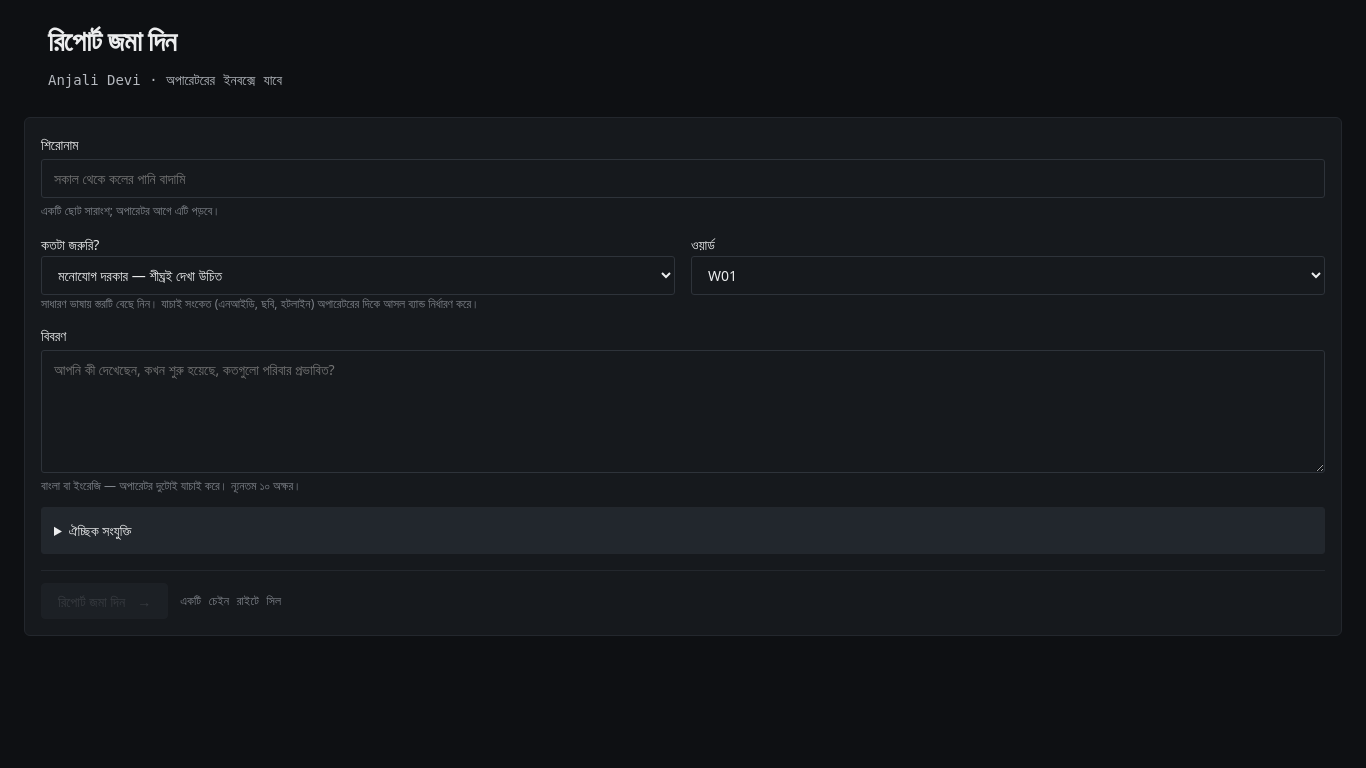
Test: WO-011 Submit Report Page reconciliation › Bangla-first: bn locale renders Bangla copy on the receipt
Type "Brown water in ward 4" into the field with test id "submit-title".
click(683, 179); type("Brown water in ward 4")  # box [41,159,1325,198]
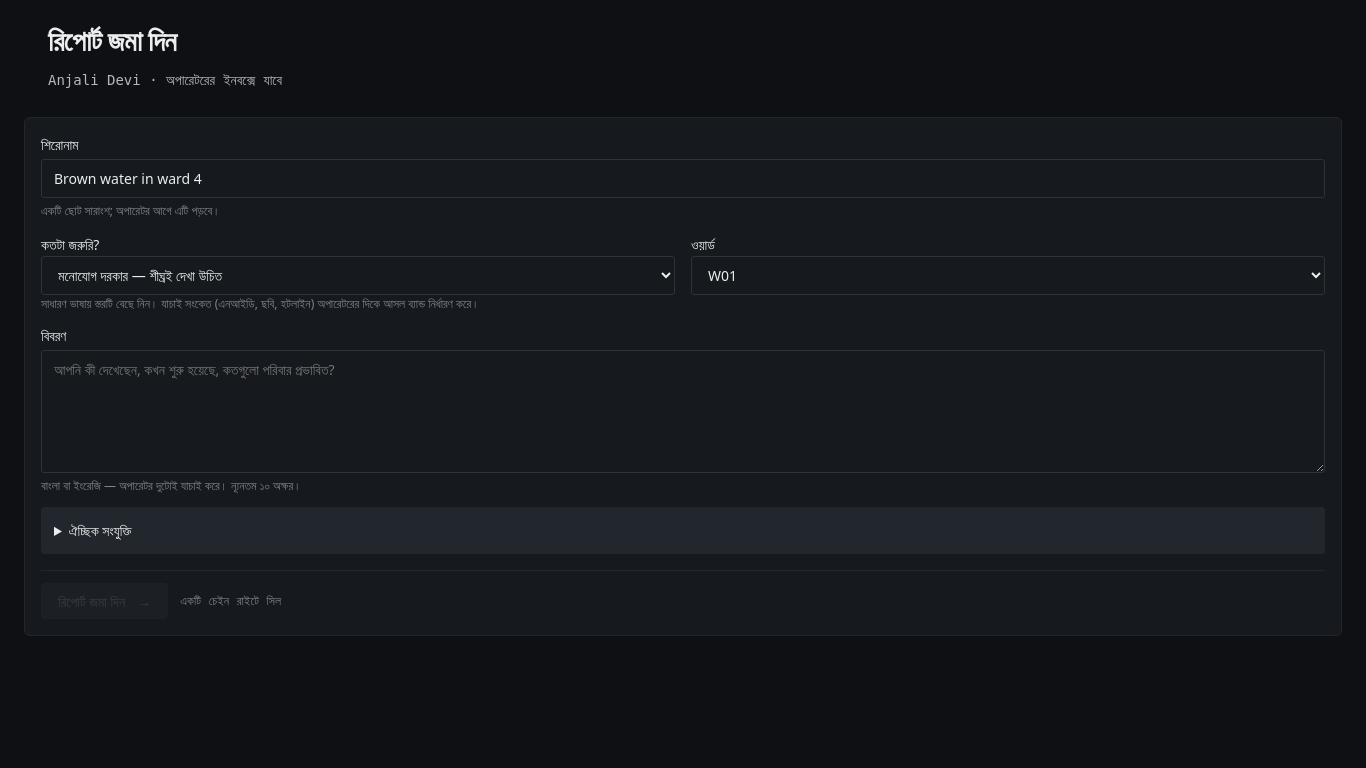
Type "Reported by 3 households since 6am." into the text box with test id "submit-description".
click(683, 412); type("Reported by 3 households since 6am.")  # box [41,350,1325,473]
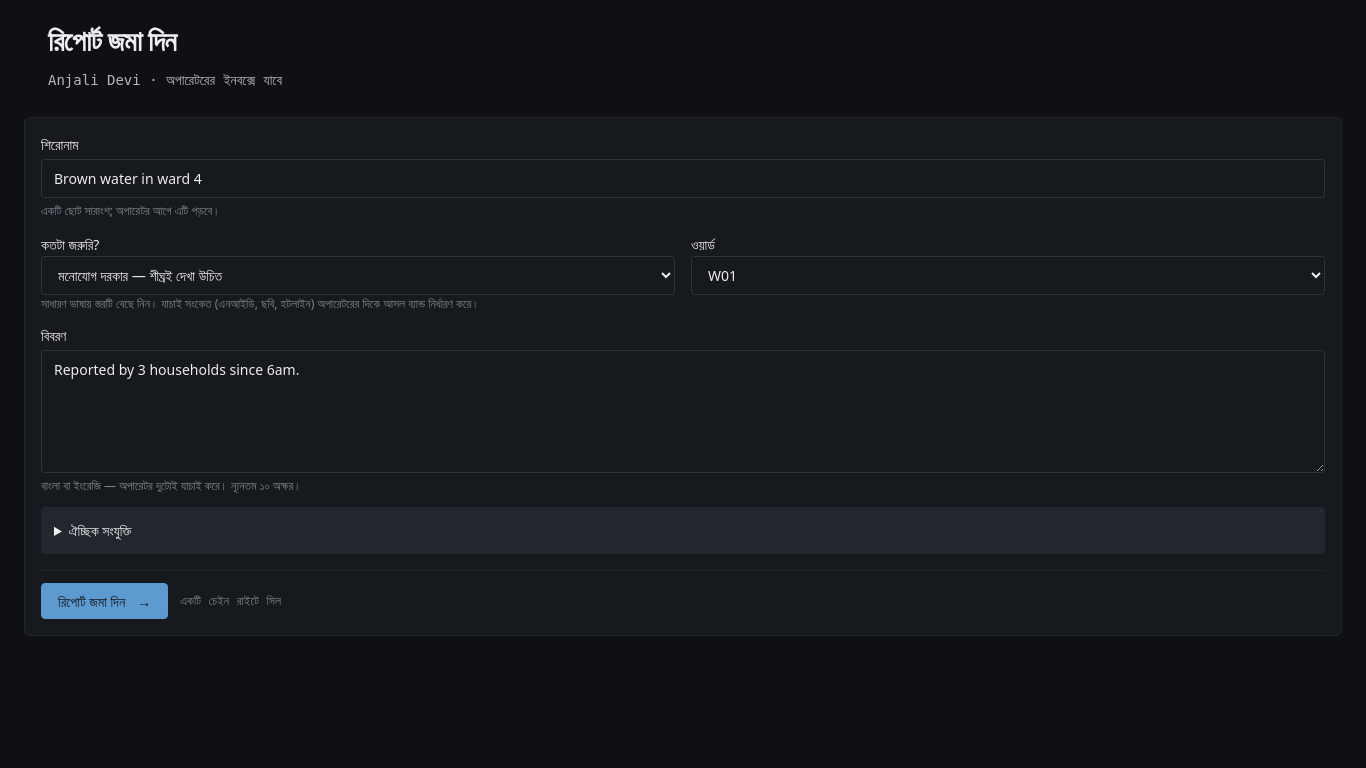
Click the button with test id "submit-submit".
click(105, 601)  # box [41,583,168,619]
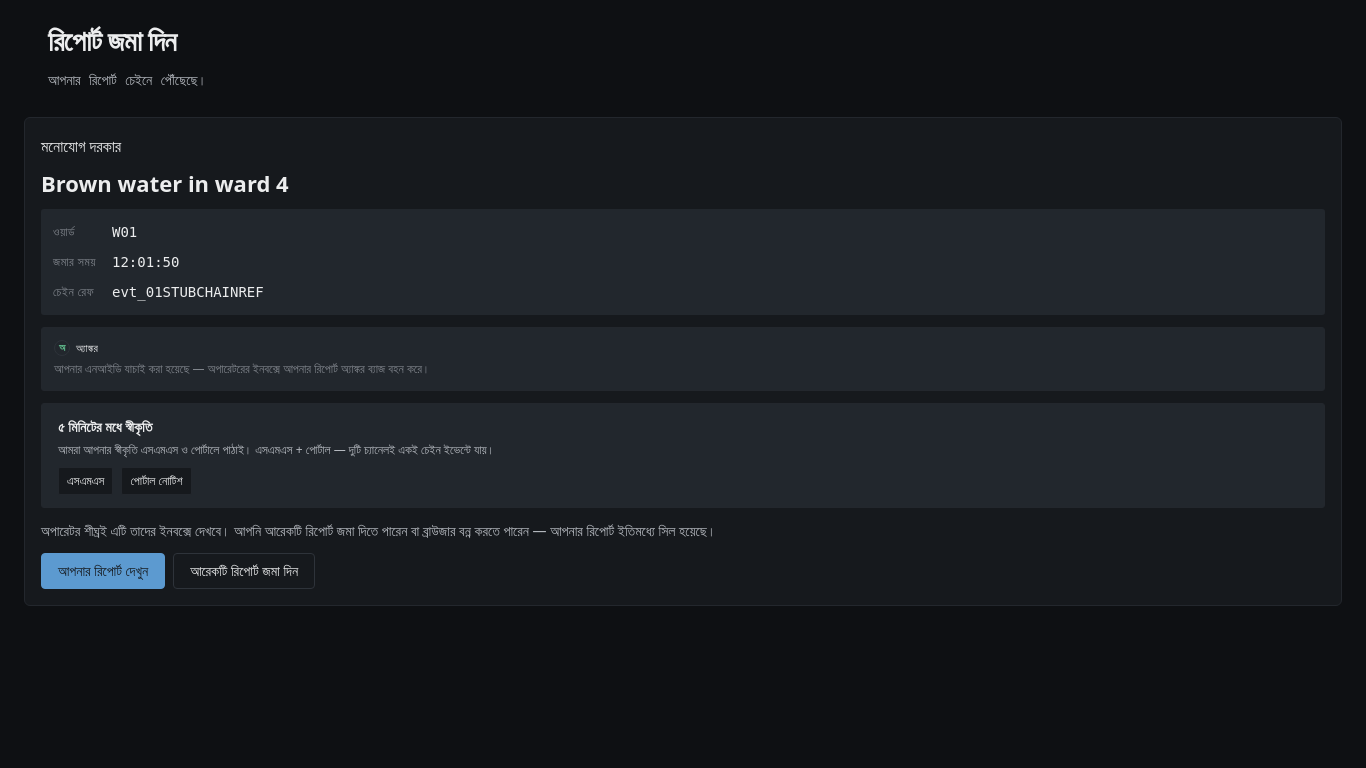
Now the element with test id "submit-receipt-card" is shown
